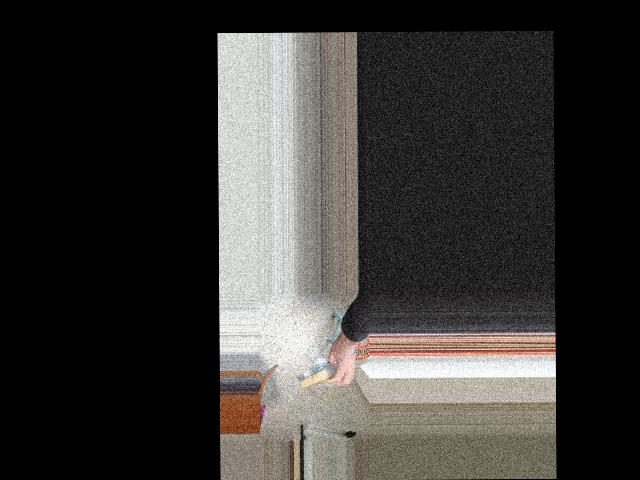cheese: (293, 360, 355, 388)
